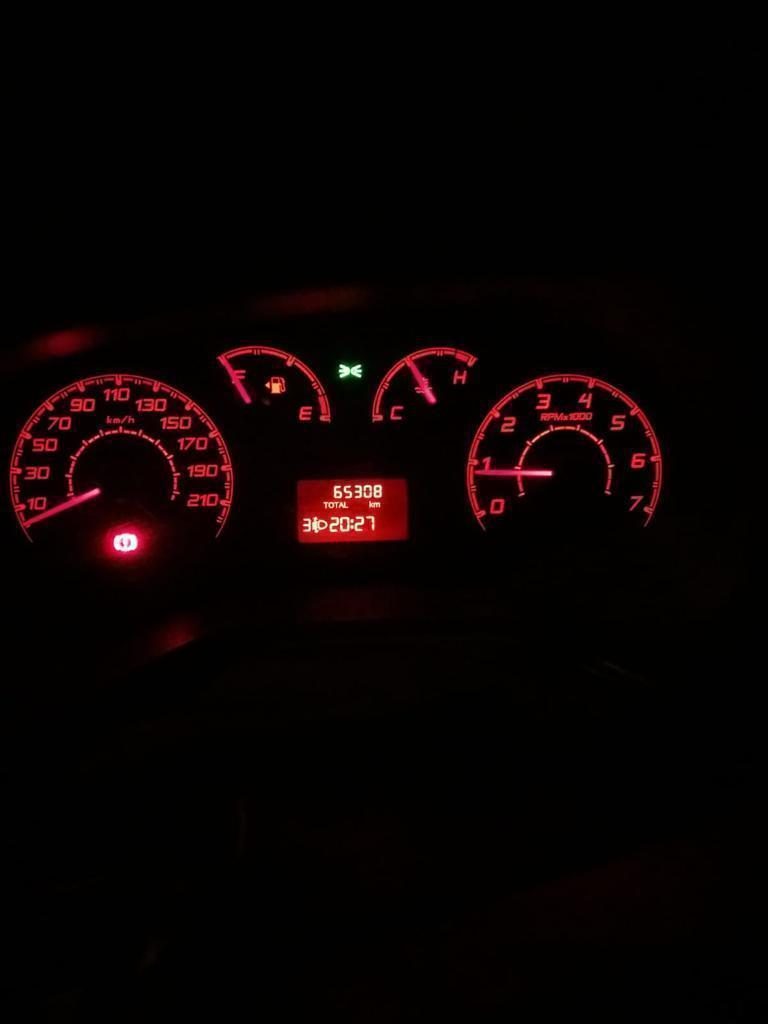0: (339, 516, 350, 532), (363, 484, 372, 498)
2: (353, 515, 364, 531), (328, 516, 339, 532)
3: (302, 517, 311, 532), (353, 485, 362, 498)
5: (343, 485, 352, 498)
6: (333, 485, 342, 498)
7: (365, 515, 374, 530)
8: (373, 484, 382, 498)
X: (328, 501, 335, 508), (350, 518, 354, 530), (322, 501, 328, 509), (333, 501, 339, 508), (368, 500, 373, 508), (343, 501, 348, 508), (338, 501, 343, 508), (373, 502, 380, 507)
odometer: (292, 475, 410, 545)
